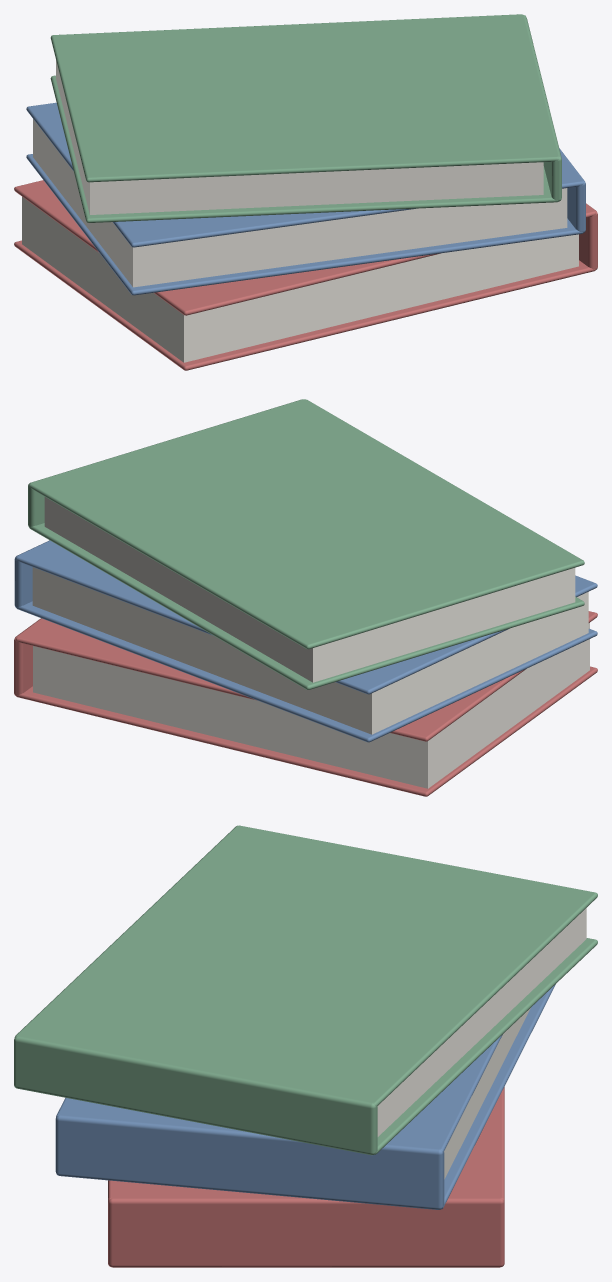
File: escena.casa.libros.fbx
The picture shows the model from 3 angles, top to bottom: view 1: azimuth 30°, elevation 25°; view 2: azimuth 150°, elevation 25°; view 3: azimuth 270°, elevation 25°; orthographic projection. The views are drawn at different scales.
Parts seen in each view (by area): view 1: Tapa de arriba.002, Hojas, Hojas.001, Hojas.002, Tapa de arriba.001, Tapa de arriba, Tapa de abajo, Tapa de abajo.001, Tapa de abajo.002, Lomo.002, Lomo.001, Lomo; view 2: Tapa de arriba.002, Hojas, Hojas.001, Hojas.002, Tapa de arriba.001, Tapa de arriba, Tapa de abajo.001, Tapa de abajo, Tapa de abajo.002, Lomo.002, Lomo, Lomo.001; view 3: Tapa de arriba.002, Lomo, Lomo.001, Lomo.002, Hojas.002, Tapa de arriba.001, Tapa de arriba, Tapa de abajo.002, Tapa de abajo.001, Hojas.001.
Part boxes in pixels (box(x1,y1,x2,y2)): Tapa de arriba.002: box(50, 14, 558, 182); Hojas: box(22, 197, 578, 362); Hojas.001: box(33, 119, 567, 287); Hojas.002: box(56, 60, 543, 214); Tapa de arriba.001: box(26, 102, 583, 247); Tapa de arriba: box(14, 180, 595, 315); Tapa de abajo: box(14, 240, 595, 370); Tapa de abajo.001: box(26, 154, 583, 295); Tapa de abajo.002: box(50, 75, 558, 222); Lomo.002: box(522, 15, 561, 201); Lomo.001: box(559, 148, 585, 232); Lomo: box(579, 203, 597, 269); Tapa de arriba.002: box(29, 399, 584, 649); Hojas: box(33, 623, 589, 788); Hojas.001: box(32, 567, 588, 734); Hojas.002: box(44, 497, 575, 682); Tapa de arriba.001: box(16, 542, 597, 694); Tapa de arriba: box(16, 611, 597, 741); Tapa de abajo.001: box(16, 601, 597, 742); Tapa de abajo: box(16, 666, 597, 796); Tapa de abajo.002: box(29, 523, 584, 689); Lomo.002: box(28, 399, 304, 526); Lomo: box(14, 618, 42, 695); Lomo.001: box(14, 540, 51, 607); Tapa de arriba.002: box(14, 825, 597, 1106); Lomo: box(108, 1197, 504, 1267); Lomo.001: box(55, 1114, 444, 1209); Lomo.002: box(14, 1035, 377, 1155); Hojas.002: box(377, 908, 586, 1136); Tapa de arriba.001: box(56, 1034, 502, 1152); Tapa de arriba: box(108, 1087, 504, 1200); Tapa de abajo.002: box(375, 938, 597, 1154); Tapa de abajo.001: box(442, 984, 555, 1208); Hojas.001: box(444, 1008, 530, 1179).
Bounding box in the file's own units: 0.4345 × 0.136 × 0.3828.
